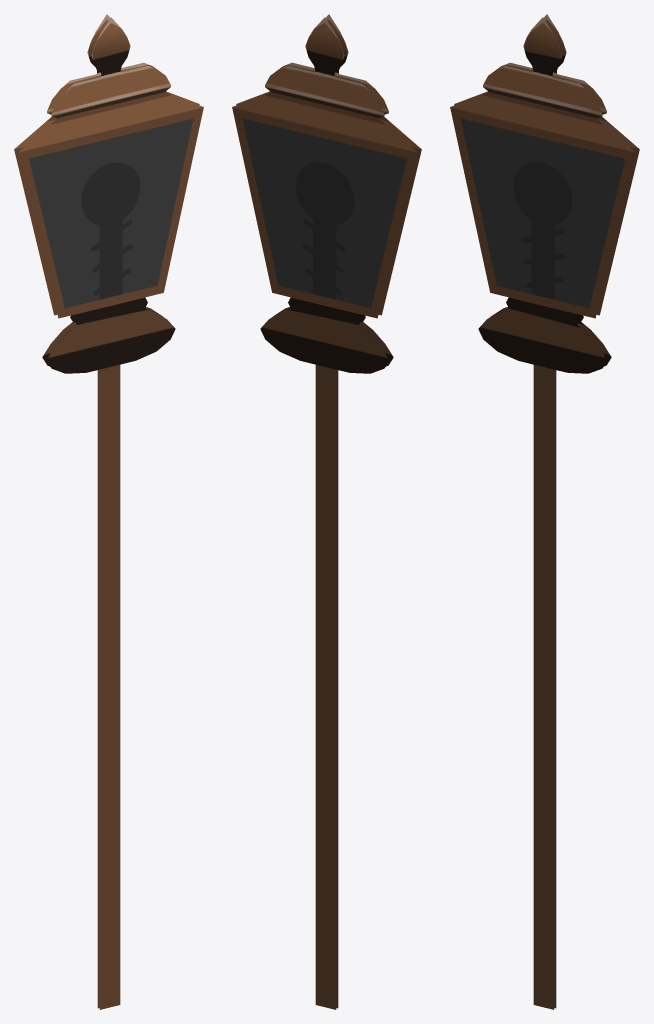
File: gaitou.fbx
3 views of the same model, side by side, from view 1: azimuth 30°, elevation 25°; view 2: azimuth 150°, elevation 25°; view 3: azimuth 330°, elevation 25° (orthographic).
Parts seen in each view (by area): view 1: grid27, polymsh_detached2, grid28, polymsh_detached3; view 2: grid28, polymsh_detached3, grid27, polymsh_detached2; view 3: grid27, polymsh_detached2, grid28, polymsh_detached3.
Part boxes in pixels (left/top/right/bottom): grid27: left=18, top=17, right=203, bottom=373; polymsh_detached2: left=99, top=365, right=120, bottom=1009; grid28: left=14, top=14, right=199, bottom=366; polymsh_detached3: left=97, top=370, right=99, bottom=1008; grid28: left=232, top=17, right=417, bottom=373; polymsh_detached3: left=315, top=365, right=336, bottom=1009; grid27: left=236, top=14, right=421, bottom=366; polymsh_detached2: left=336, top=370, right=338, bottom=1008; grid27: left=450, top=17, right=635, bottom=373; polymsh_detached2: left=533, top=365, right=554, bottom=1009; grid28: left=454, top=14, right=639, bottom=366; polymsh_detached3: left=554, top=369, right=556, bottom=1008.
Size of the model in its own units: 72.49 by 370 by 2.84.
